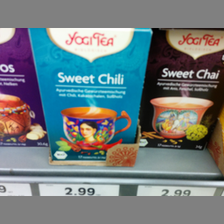tea: (28, 28, 153, 164), (140, 27, 224, 150), (1, 28, 47, 148)
